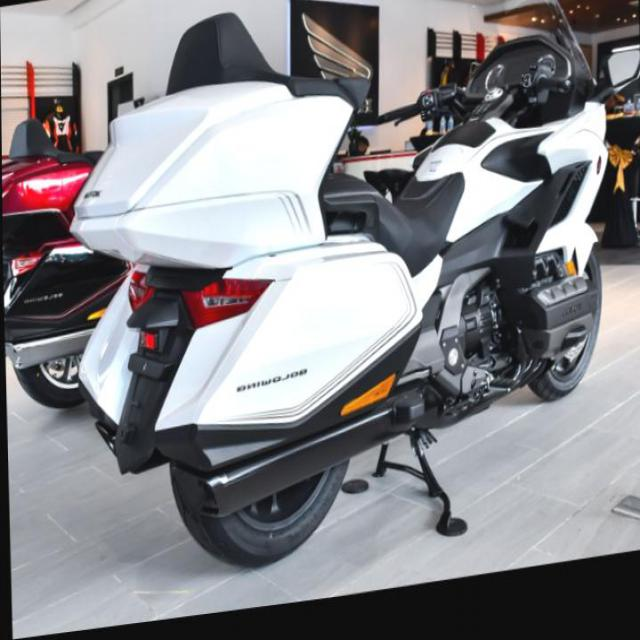Gold Wing: (68, 0, 612, 598)
